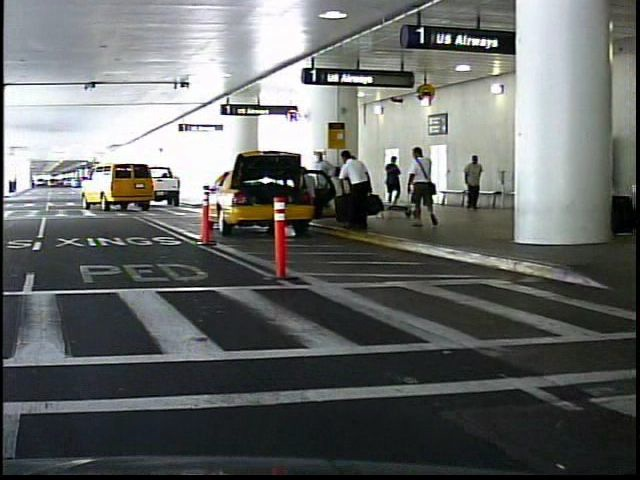person: (403, 146, 440, 232), (456, 152, 481, 214)
